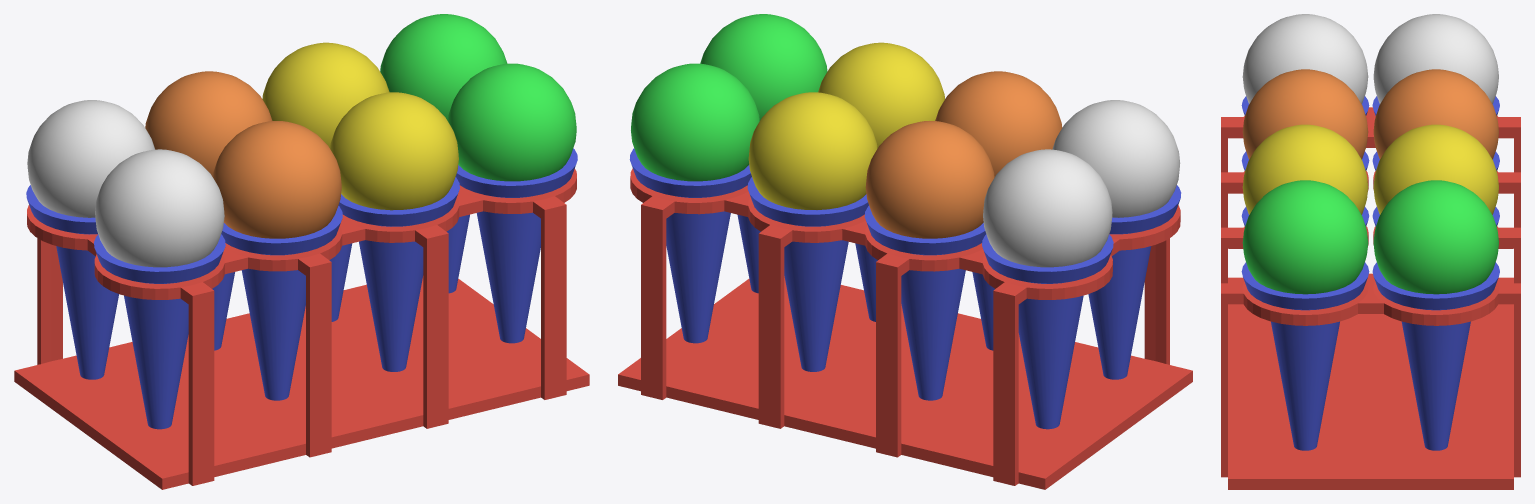
Rendered from Helados.fbx.
3 renders of one model, left to right at view 1: azimuth 30°, elevation 25°; view 2: azimuth 150°, elevation 25°; view 3: azimuth 270°, elevation 25°, orthographic. The views are drawn at different scales.
Visible parts, largest first — view 1: Cylinder.002; view 2: Cylinder.002; view 3: Cylinder.002.
Part boxes in pixels (x1,y1,x2,y2): Cylinder.002: (14,14,589,489); Cylinder.002: (618,14,1192,489); Cylinder.002: (1221,14,1520,489).
Bounding box in the file's own units: 105 × 63.48 × 60.27.
